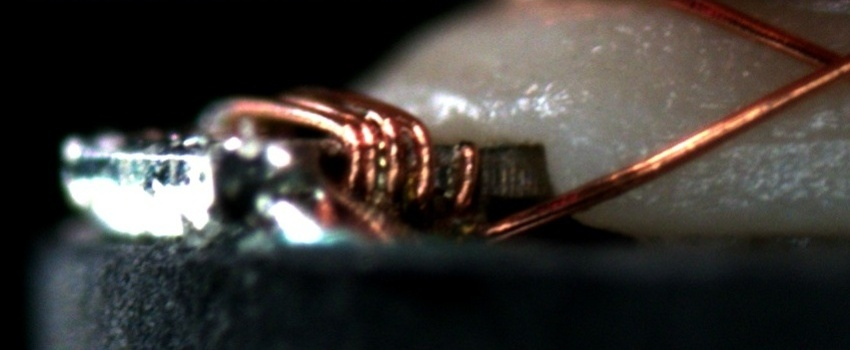CL: (783, 30, 847, 94)
DL: (729, 108, 849, 174)
TE: (201, 69, 485, 235)
